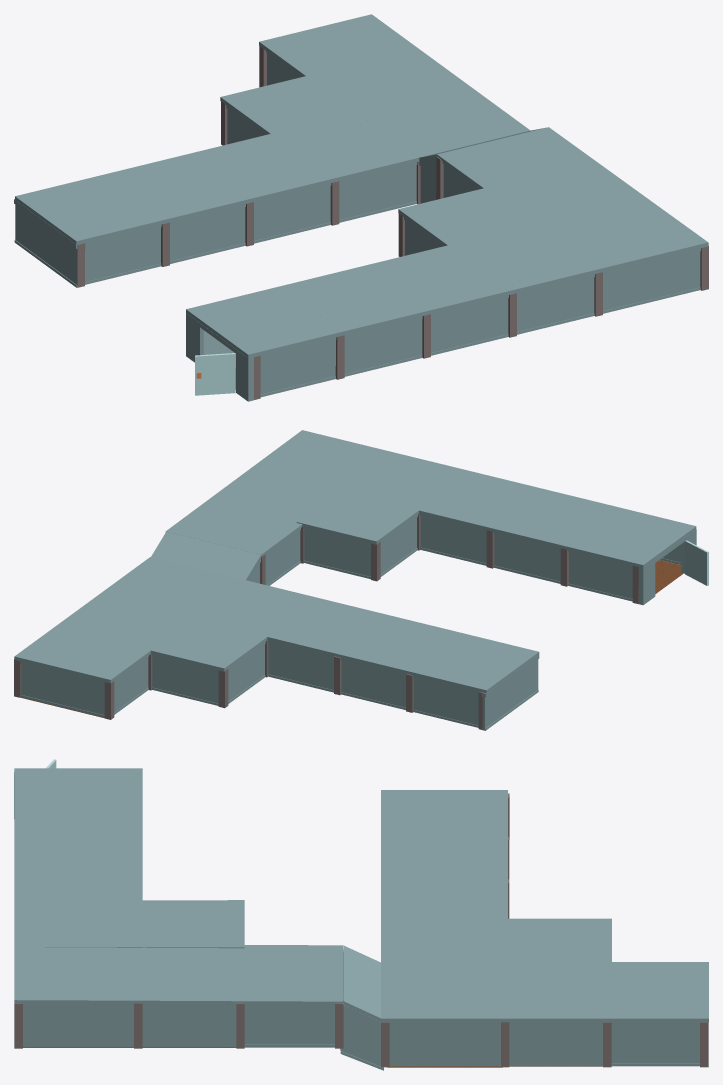
File: modeltempat.fbx
3 views of the same model, one above another, from view 1: azimuth 30°, elevation 25°; view 2: azimuth 150°, elevation 25°; view 3: azimuth 270°, elevation 25° (orthographic). The views are drawn at different scales.
Parts seen in each view (by area): view 1: Cube.164, Cube.165, Cube.167, Cube.122, Cube.076, Cube.162, Cube.067, Cube.084, Cube.163, Cube.100, Cube.062, Cube.052 (+13 smaller); view 2: Cube.164, Cube.165, Cube.167, Cube.122, Cube.076, Cube.067, Cube.162, Cube.163, Cube.084, Cube.134, Cube.166, Cube.086 (+14 smaller); view 3: Cube.164, Cube.165, Cube.167, Cube.122, Cube.076, Cube.067, Cube.162, Cube.128, Cube.163, Cube.084, Cube.093, Cube.130 (+5 smaller).
Boxes of the visible parts, bbox=[...] form: Cube.164: bbox=[259, 14, 530, 161]; Cube.165: bbox=[437, 127, 708, 273]; Cube.167: bbox=[15, 134, 332, 245]; Cube.122: bbox=[220, 76, 417, 182]; Cube.076: bbox=[186, 286, 341, 358]; Cube.162: bbox=[372, 241, 527, 313]; Cube.067: bbox=[279, 264, 433, 335]; Cube.084: bbox=[466, 222, 602, 290]; Cube.163: bbox=[398, 186, 540, 246]; Cube.100: bbox=[603, 248, 700, 313]; Cube.062: bbox=[186, 313, 253, 401]; Cube.052: bbox=[344, 316, 422, 376]; Cube.164: bbox=[14, 557, 246, 683]; Cube.165: bbox=[165, 430, 397, 555]; Cube.167: bbox=[267, 598, 539, 693]; Cube.122: bbox=[151, 580, 319, 671]; Cube.076: bbox=[563, 507, 696, 568]; Cube.067: bbox=[483, 487, 616, 548]; Cube.162: bbox=[405, 468, 536, 529]; Cube.163: bbox=[296, 490, 418, 544]; Cube.084: bbox=[339, 452, 456, 506]; Cube.134: bbox=[20, 661, 104, 717]; Cube.166: bbox=[151, 531, 261, 580]; Cube.086: bbox=[304, 527, 370, 579]; Cube.164: bbox=[381, 962, 708, 1022]; Cube.165: bbox=[14, 943, 343, 1004]; Cube.167: bbox=[381, 790, 507, 918]; Cube.122: bbox=[381, 918, 611, 961]; Cube.076: bbox=[14, 768, 142, 815]; Cube.067: bbox=[14, 815, 142, 861]; Cube.162: bbox=[14, 862, 142, 908]; Cube.128: bbox=[389, 1022, 500, 1066]; Cube.163: bbox=[141, 900, 244, 948]; Cube.084: bbox=[14, 909, 142, 947]; Cube.093: bbox=[23, 1004, 133, 1047]; Cube.130: bbox=[509, 1022, 602, 1066].
Bounding box in the file's own units: 5861 × 782 × 6908.
30 materials, 13 textured.
